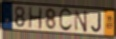8: (44, 8, 57, 31), (14, 6, 26, 29)
C: (58, 7, 73, 33)
H: (28, 7, 43, 31)
J: (90, 11, 102, 33)
N: (74, 10, 88, 34)
